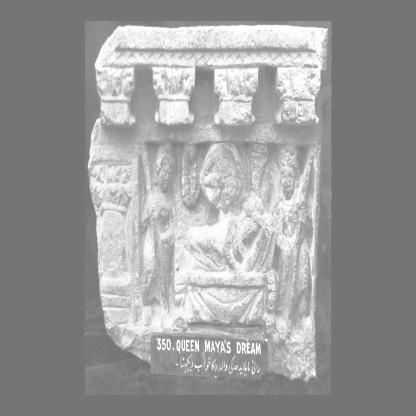buddha-sleeping: (175, 196, 277, 325)
